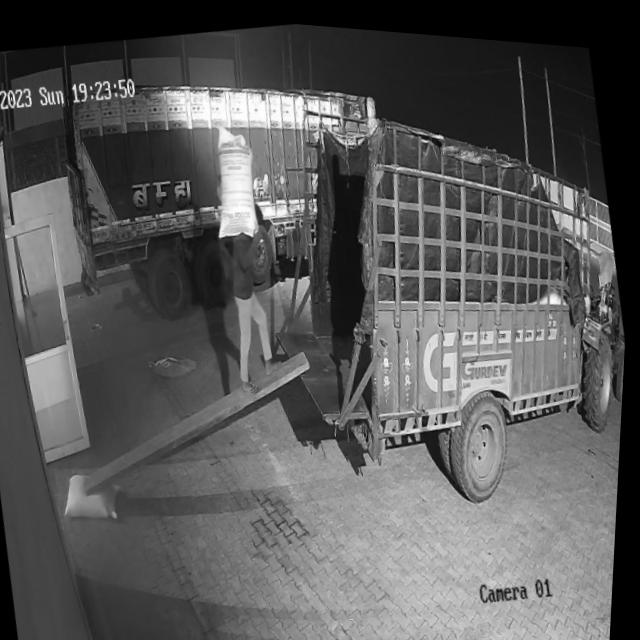sack: (202, 116, 267, 237), (63, 463, 130, 526)
